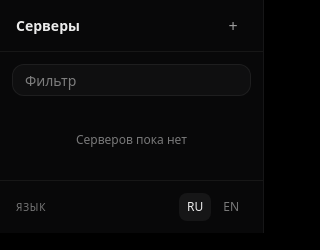
Test: язык › переключение меняет язык интерфейса на месте
The image size is (320, 250).
Expected: the list item "Серверов пока нет" is shown, [76,131,187,148]
Click the button "en" at (231, 207), box [215,193,247,221]
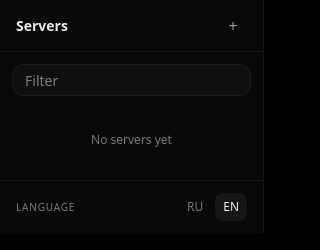
Expected: the list item "No servers yet" is shown, [91,131,172,148]
